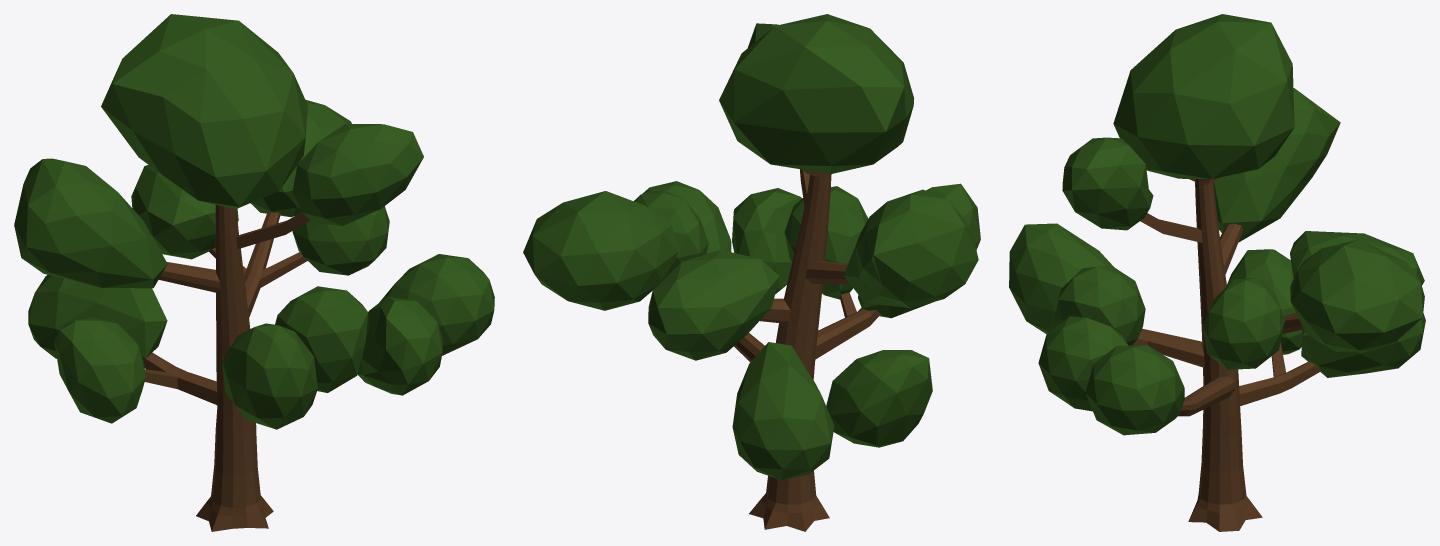
The picture shows the model from 3 angles, left to right: view 1: azimuth 30°, elevation 25°; view 2: azimuth 150°, elevation 25°; view 3: azimuth 270°, elevation 25°; orthographic projection. The views are drawn at different scales.
Visible parts, largest first — view 1: Icosphere.004, Cylinder.022; view 2: Icosphere.004, Cylinder.022; view 3: Icosphere.004, Cylinder.022.
Boxes of the visible parts, x1,y1,x2,y2 form: Icosphere.004: (14, 14, 494, 429); Cylinder.022: (143, 205, 309, 531); Icosphere.004: (523, 14, 980, 480); Cylinder.022: (734, 169, 880, 531); Icosphere.004: (1009, 14, 1425, 435); Cylinder.022: (1133, 177, 1321, 531).
Size of the model in its own units: 9.77 by 11.52 by 9.11.
